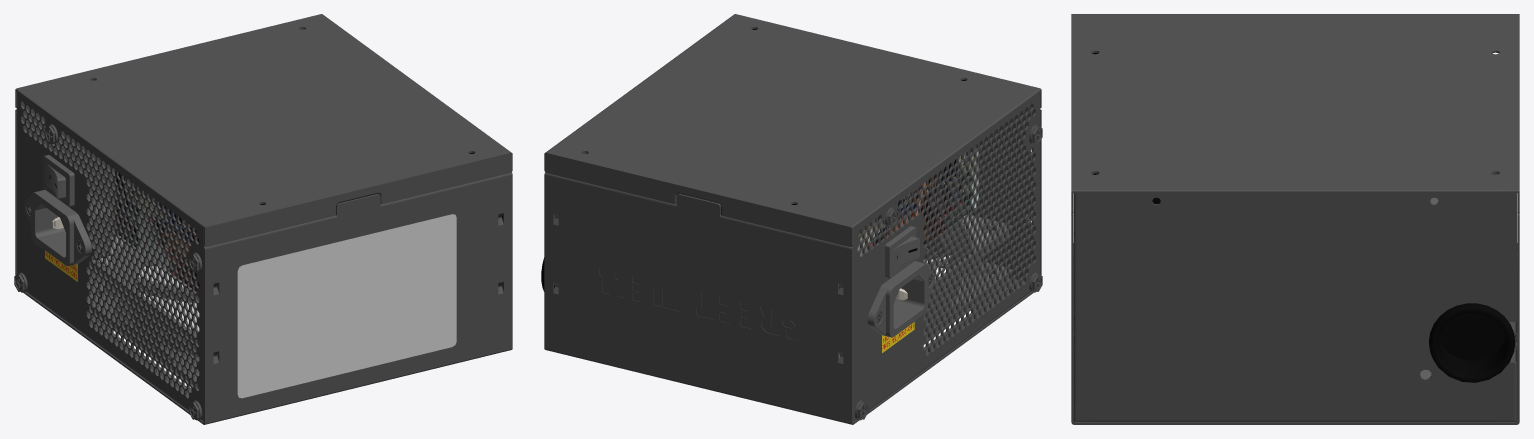
Rendered from psu.glb.
3 renders of one model, left to right at view 1: azimuth 30°, elevation 25°; view 2: azimuth 150°, elevation 25°; view 3: azimuth 270°, elevation 25°, orthographic. The views are drawn at different scales.
Visible parts, largest first — view 1: power_main, fan_frame, fan.001; view 2: power_main, fan_frame; view 3: power_main.
Part boxes in pixels (<box>): power_main: <box>15,14,512,424</box>; fan_frame: <box>88,236,217,390</box>; fan.001: <box>138,266,199,330</box>; power_main: <box>541,14,1041,424</box>; fan_frame: <box>839,215,1010,357</box>; power_main: <box>1071,14,1519,424</box>.
Size of the model in its own units: 0.1494 by 0.0885 by 0.15.
16 materials, 2 textured.
